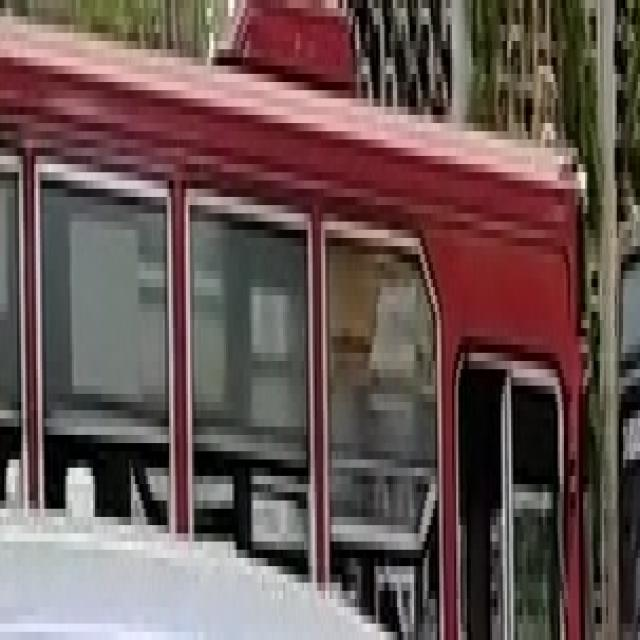door: (452, 344, 566, 632)
